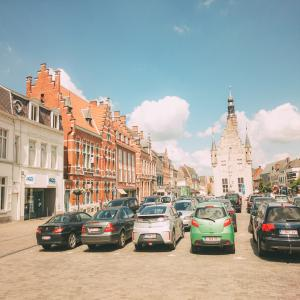Vehicle-registration-plate: (280, 230, 300, 236), (206, 238, 221, 243), (92, 228, 102, 234), (145, 236, 157, 240), (43, 238, 51, 241)
